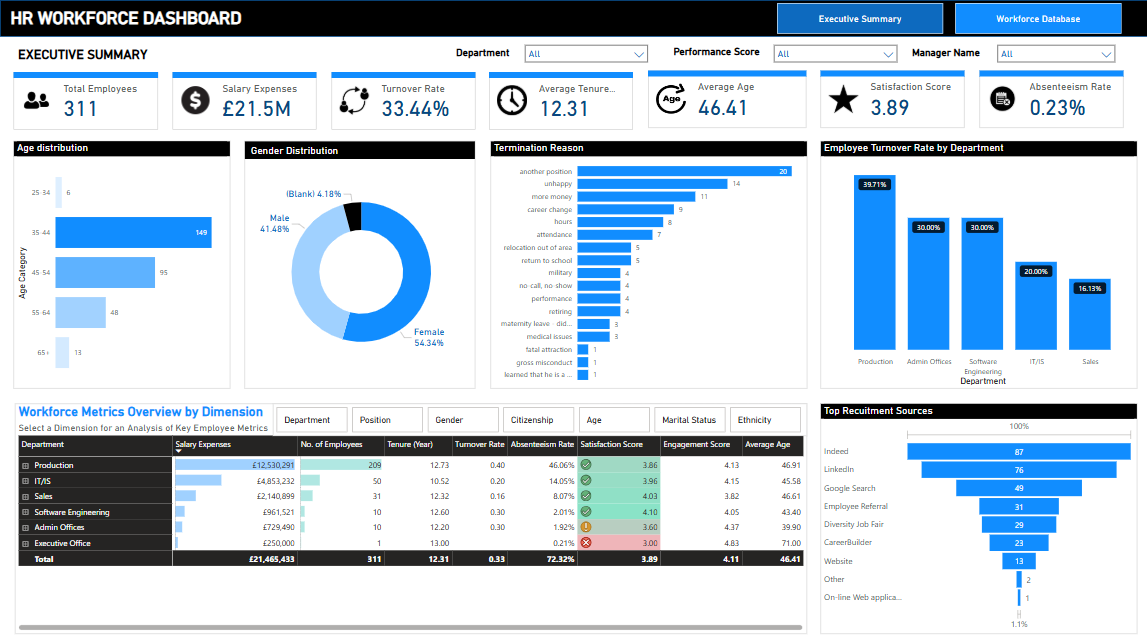

This screenshot's page, from the dashboard's own definition file:
{"tool":"powerbi","page":{"name":"Executive Summary","canvas":[1920,1080],"ordinal":0},"visuals":[{"type":"cardVisual","fields":{"Data":["Calculations.Total Employees"]},"box":[23.5,119.7,241.7,96.2],"z":0},{"type":"cardVisual","fields":{"Data":["Avg(Employee_Main.Tenure(Year))"]},"box":[816,118.9,240,96],"z":1000},{"type":"cardVisual","fields":{"Data":["Calculations.Employee Turnover Rate"]},"box":[552,118.9,240,96],"z":2000},{"type":"cardVisual","fields":{"Data":["Sum(Employee_Main.Salary)"]},"box":[288,118.9,240,96],"z":3000},{"type":"cardVisual","fields":{"Data":["Avg(Employee_Main.Absenteeism Rate)"]},"box":[1632,118,240,96],"z":4000},{"type":"cardVisual","fields":{"Data":["Avg(Employee_Main.SatisfactionScore)"]},"box":[1368,118,240,96],"z":5000},{"type":"cardVisual","fields":{"Data":["Avg(Employee_Main.Age)"]},"box":[1080,118,264,96],"z":6000},{"type":"donutChart","title":"Gender Distribution","fields":{"Y":["Calculations.Total Employees"],"Category":["Employee_Main.Gender"]},"box":[408.2,234.6,384.8,412.9],"z":7000},{"type":"clusteredBarChart","title":"Age distribution","fields":{"Category":["Employee_Main.Age Category"],"Y":["CountNonNull(Employee_Main.EmployeeId)"]},"box":[23.5,234.6,361.3,412.9],"z":8000},{"type":"barChart","title":"Termination Reason","fields":{"Category":["Employee_Main.TerminationReason"],"Y":["CountNonNull(Employee_Main.EmployeeId)"]},"box":[816.5,234.6,527.9,412.9],"z":9000},{"type":"clusteredColumnChart","fields":{"Category":["Department.Department"],"Y":["Calculations.Employee Turnover Rate"]},"box":[1367.9,234.6,527.9,412.9],"z":10000},{"type":"funnel","title":"Top Recuitment Sources","fields":{"Category":["Employee_Main.RecruitmentSource"],"Y":["CountNonNull(Employee_Main.EmployeeId)"]},"box":[1368,672,528,384],"z":11000},{"type":"pivotTable","title":"Workforce Metrics Overview by Dimension","fields":{"Rows":["Department.Department","Position.Position","Employee_Main.Gender","Employee.CitizenDesc","Employee_Main.Age Category","MaritalStatus.MaritalDesc","Employee_Main.RaceDesc"],"Values":["Sum(Employee_Main.Salary)","CountNonNull(Employee_Main.EmployeeId)","Avg(Employee_Main.Tenure(Year))","Calculations.Employee Turnover Rate","Sum(Employee_Main.Absenteeism Rate)","Avg(Employee_Main.SatisfactionScore)","Avg(Employee_Main.EngagementScore)","Avg(Employee_Main.Age)"]},"box":[24,672,1320,384],"z":12000},{"type":"advancedSlicerVisual","fields":{"Values":["Parameter.Parameter"]},"box":[454,672,890,54],"z":13000},{"type":"textbox","box":[1514.4,72.2,137.8,34.1],"z":14000},{"type":"slicer","fields":{"Values":["Department.Department"]},"box":[866,64.2,224.5,46.5],"z":15000},{"type":"textbox","box":[755.5,73.5,109.9,34.1],"z":16000},{"type":"slicer","fields":{"Values":["Performance.PerformanceScore"]},"box":[1280.3,64.1,225.2,46.9],"z":17000},{"type":"textbox","box":[1117.1,70.9,163.7,33.3],"z":18000},{"type":"slicer","fields":{"Values":["Manager.ManagerName"]},"box":[1653.3,64.1,215.9,46.9],"z":19000},{"type":"shape","box":[0,0,1921.6,61],"z":20000},{"type":"pageNavigator","box":[1295.1,4.7,574.8,51.6],"z":21000},{"type":"textbox","box":[11.7,7,673.4,44.6],"z":22000},{"type":"textbox","box":[24,72,242,38],"z":23000}]}

Visuals, with their boxes in screenshot pixels (x1, y1, x2, y2), scaled from the page's 1920x1080 canvas onto the 1147x642 screenshot:
cardVisual - Calculations.Total Employees: (14, 71, 158, 128)
cardVisual - Avg(Employee_Main.Tenure(Year)): (487, 71, 631, 128)
cardVisual - Calculations.Employee Turnover Rate: (330, 71, 473, 128)
cardVisual - Sum(Employee_Main.Salary): (172, 71, 315, 128)
cardVisual - Avg(Employee_Main.Absenteeism Rate): (975, 70, 1118, 127)
cardVisual - Avg(Employee_Main.SatisfactionScore): (817, 70, 961, 127)
cardVisual - Avg(Employee_Main.Age): (645, 70, 803, 127)
"Gender Distribution" donutChart: (244, 139, 474, 385)
"Age distribution" clusteredBarChart: (14, 139, 230, 385)
"Termination Reason" barChart: (488, 139, 803, 385)
clusteredColumnChart - Department.Department x Calculations.Employee Turnover Rate: (817, 139, 1133, 385)
"Top Recuitment Sources" funnel: (817, 399, 1133, 628)
"Workforce Metrics Overview by Dimension" pivotTable: (14, 399, 803, 628)
advancedSlicerVisual - Parameter.Parameter: (271, 399, 803, 432)
textbox: (905, 43, 987, 63)
slicer - Department.Department: (517, 38, 651, 66)
textbox: (451, 44, 517, 64)
slicer - Performance.PerformanceScore: (765, 38, 899, 66)
textbox: (667, 42, 765, 62)
slicer - Manager.ManagerName: (988, 38, 1117, 66)
shape: (0, 0, 1146, 36)
pageNavigator: (774, 3, 1117, 33)
textbox: (7, 4, 409, 31)
textbox: (14, 43, 159, 65)
